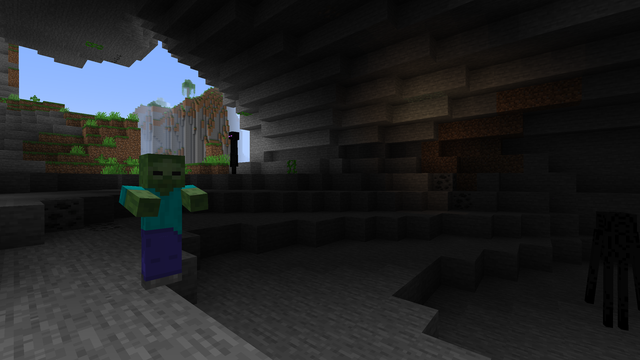endermens: (595, 207, 637, 337), (227, 129, 239, 163)
zombies: (133, 156, 189, 294)
